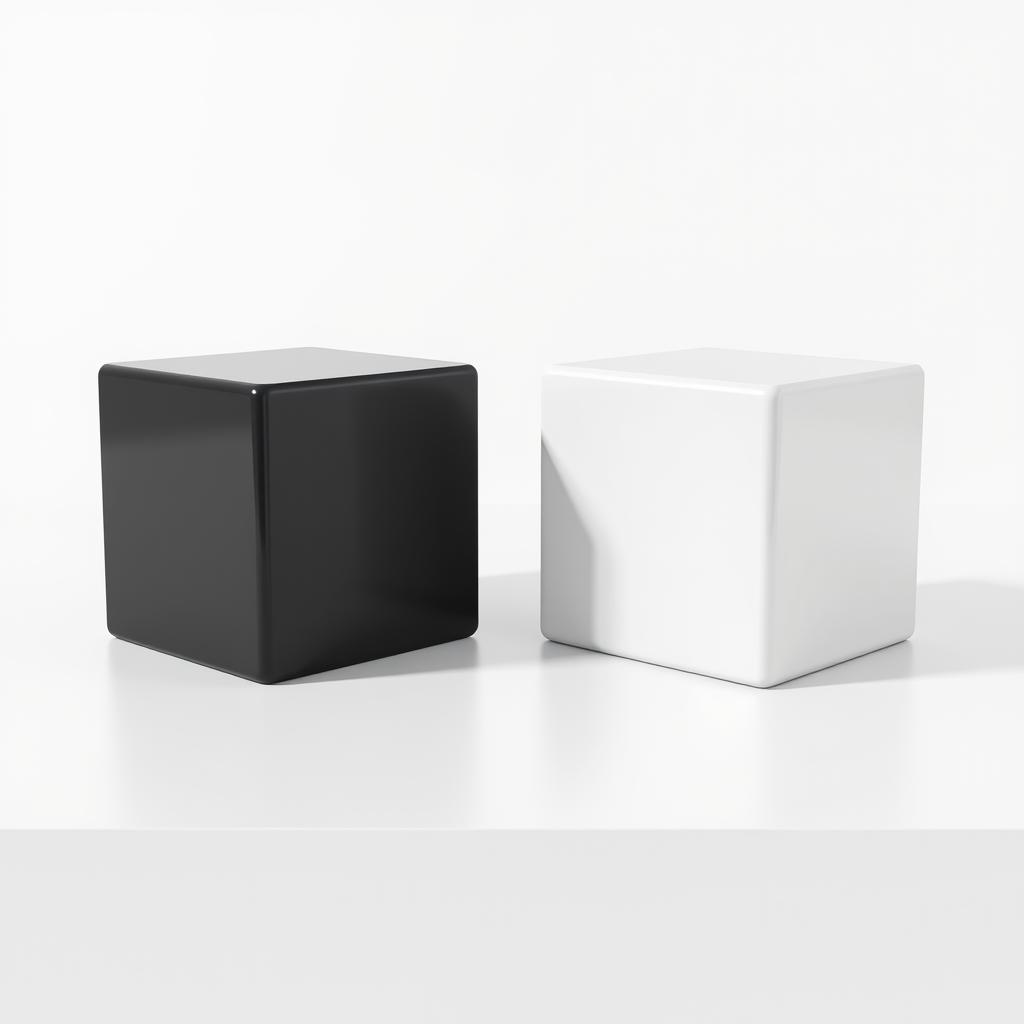cube: (538, 344, 924, 688), (97, 344, 479, 684)
